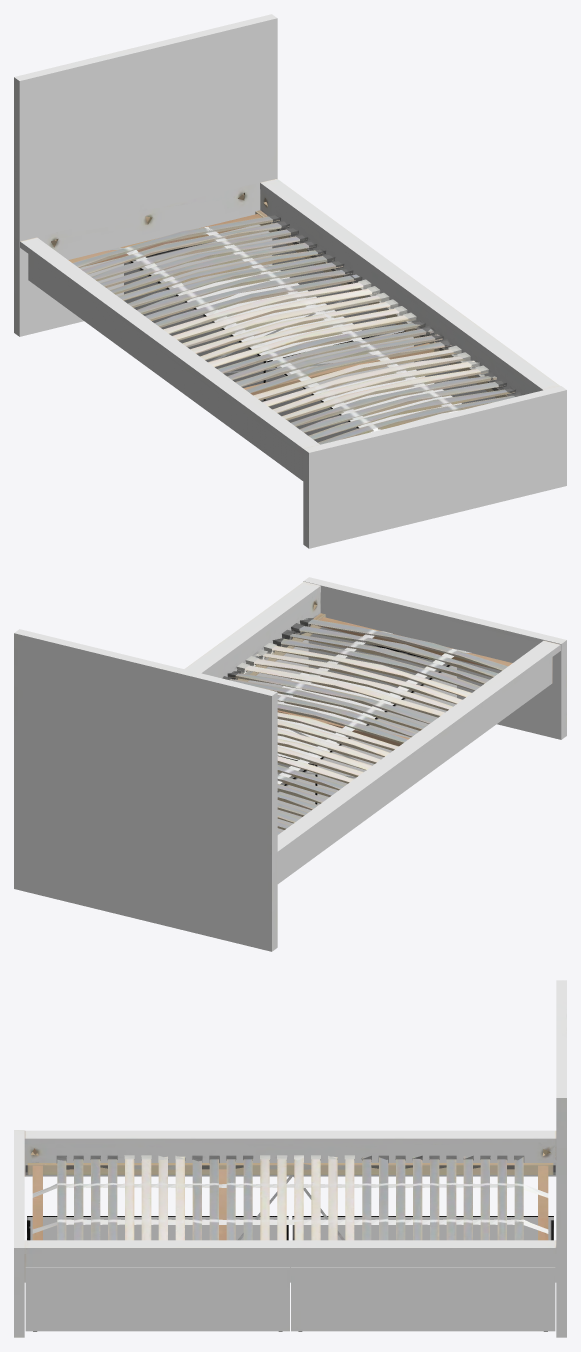
The model's file is 34 - MALM - 高床框附2收納盒, 白色Lönset, 120x200 公分 IKEA 線上購物.glb.
3 renders of one model, top to bottom at view 1: azimuth 30°, elevation 25°; view 2: azimuth 150°, elevation 25°; view 3: azimuth 270°, elevation 25°, orthographic. The views are drawn at different scales.
Parts seen in each view (by area): view 1: Mesh_0.001, Mesh_1.001; view 2: Mesh_0.001, Mesh_1.001; view 3: Mesh_0.001, Mesh_1.001.
Boxes of the visible parts, left/top/right/bottom form: Mesh_0.001: left=14, top=14, right=566, bottom=548; Mesh_1.001: left=267, top=213, right=521, bottom=396; Mesh_0.001: left=14, top=577, right=566, bottom=951; Mesh_1.001: left=222, top=618, right=313, bottom=679; Mesh_0.001: left=14, top=980, right=566, bottom=1337; Mesh_1.001: left=33, top=1155, right=547, bottom=1331.
Size of the model in its own units: 1.05 by 1 by 2.09.
2 materials, 2 textured.
